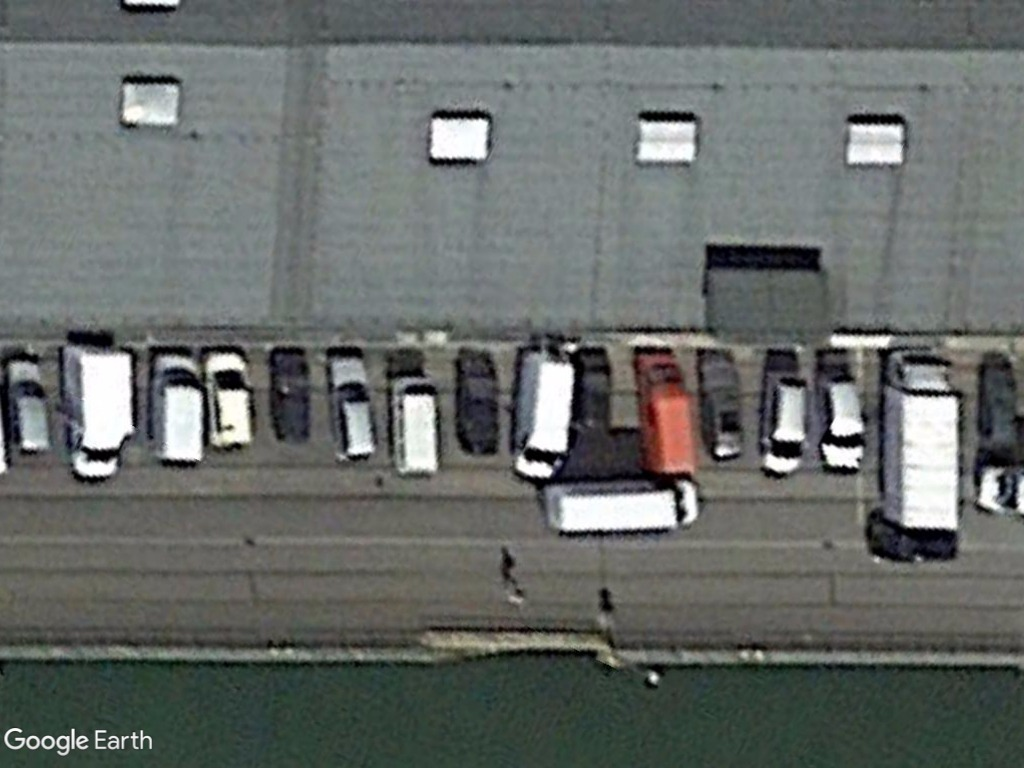car: (754, 362, 816, 480), (197, 342, 260, 452), (324, 349, 382, 466)
truck: (874, 348, 968, 537), (56, 343, 143, 482)
van: (505, 342, 582, 482), (537, 475, 700, 541), (628, 345, 702, 484), (148, 348, 207, 474), (387, 365, 449, 482)
